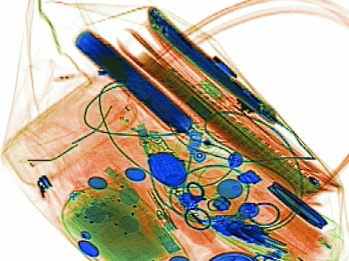powerbank: (72, 28, 199, 142)
